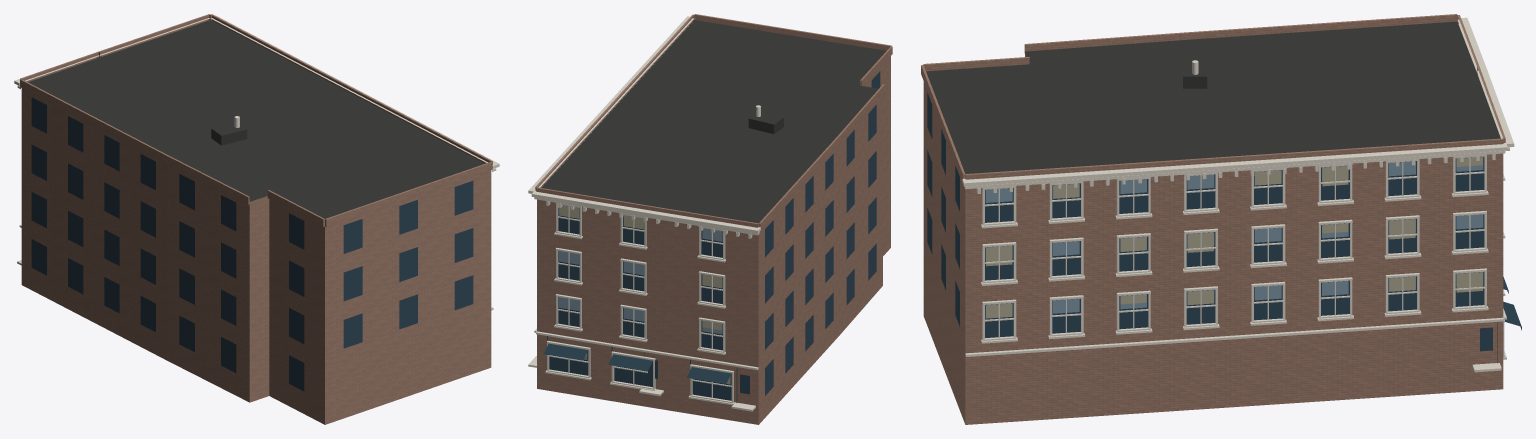
3 renders of one model, left to right at view 1: azimuth 30°, elevation 25°; view 2: azimuth 150°, elevation 25°; view 3: azimuth 270°, elevation 25°, orthographic. The views are drawn at different scales.
Visible parts, largest first — view 1: Footprint 0 / surface 2, Footprint 0 / surface 1, Inset glazing, Facade bay volumes, Cornices and window frames; view 2: Footprint 0 / surface 2, Footprint 0 / surface 1, Inset glazing, Cornices and window frames, Facade bay volumes, Storefronts and doors, Sky reflection panels, Interior blind variation; view 3: Footprint 0 / surface 2, Footprint 0 / surface 1, Cornices and window frames, Inset glazing, Facade bay volumes, Interior blind variation, Sky reflection panels.
Part boxes in pixels (x1=…): Footprint 0 / surface 2: x1=21, y1=88, x2=491, y2=424; Footprint 0 / surface 1: x1=28, y1=20, x2=484, y2=218; Inset glazing: x1=31, y1=97, x2=473, y2=391; Facade bay volumes: x1=20, y1=14, x2=492, y2=226; Cornices and window frames: x1=14, y1=15, x2=499, y2=310; Footprint 0 / surface 2: x1=537, y1=56, x2=890, y2=424; Footprint 0 / surface 1: x1=541, y1=20, x2=886, y2=223; Inset glazing: x1=549, y1=71, x2=880, y2=400; Cornices and window frames: x1=528, y1=16, x2=760, y2=411; Facade bay volumes: x1=535, y1=14, x2=892, y2=230; Storefronts and doors: x1=543, y1=336, x2=737, y2=402; Sky reflection panels: x1=559, y1=205, x2=730, y2=383; Interior blind variation: x1=559, y1=205, x2=730, y2=384; Footprint 0 / surface 2: x1=923, y1=52, x2=1503, y2=424; Footprint 0 / surface 1: x1=926, y1=21, x2=1500, y2=173; Cornices and window frames: x1=962, y1=17, x2=1514, y2=372; Inset glazing: x1=927, y1=92, x2=1492, y2=351; Facade bay volumes: x1=921, y1=14, x2=1505, y2=180; Interior blind variation: x1=986, y1=157, x2=1482, y2=318; Sky reflection panels: x1=985, y1=156, x2=1483, y2=317.
Size of the model in its own units: 19.26 by 14.55 by 29.51.
